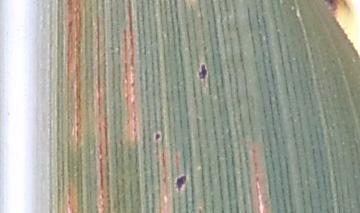tarspot: (174, 174, 188, 193), (196, 62, 209, 81), (153, 132, 161, 142), (202, 44, 208, 53)
